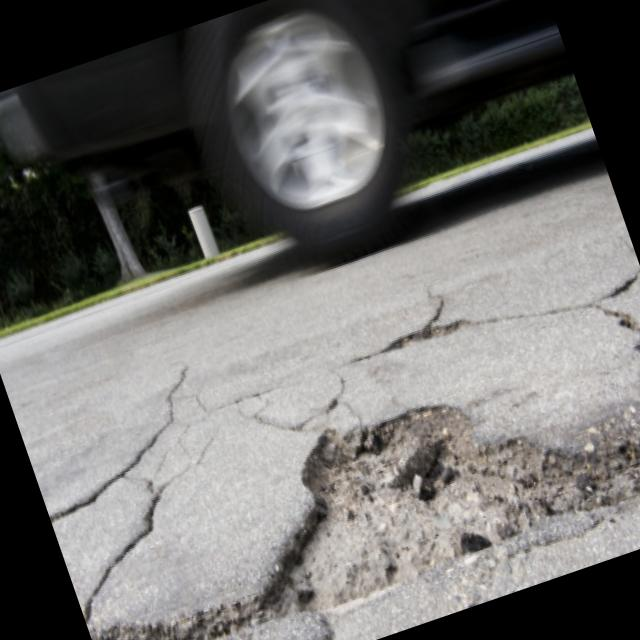Potholes: (24, 231, 640, 640)
